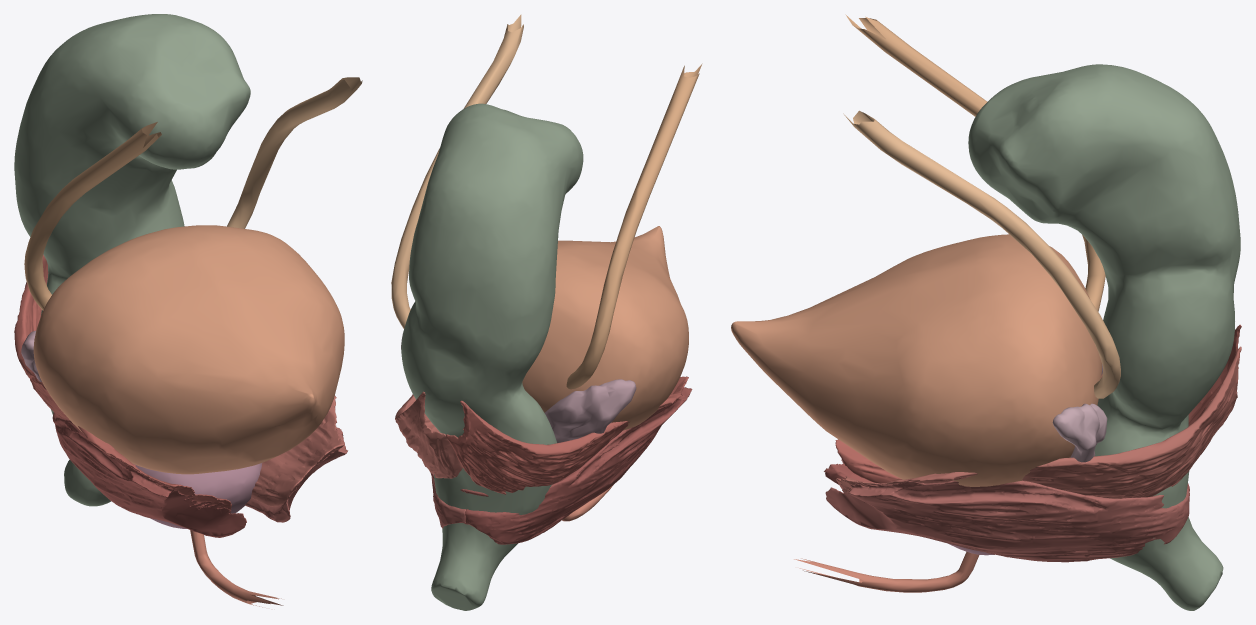
Rendered from bladder.glb.
3 renders of one model, left to right at view 1: azimuth 30°, elevation 25°; view 2: azimuth 150°, elevation 25°; view 3: azimuth 270°, elevation 25°, orthographic. The views are drawn at different scales.
Parts seen in each view (by area): view 1: urinary-bladder, rectum, right-puborectalis, right-ureter, left-ureter, left-pubococcygeus, right-pubococcygeus, prostate, urethra, left-puborectalis; view 2: rectum, urinary-bladder, right-pubococcygeus, right-puborectalis, right-ureter, left-ureter, right-seminal-vesicle, left-pubococcygeus, left-puborectalis; view 3: rectum, urinary-bladder, left-puborectalis, left-pubococcygeus, left-ureter, right-ureter, urethra, left-seminal-vesicle, right-pubococcygeus.
Part boxes in pixels (bbox=[...]): urinary-bladder: bbox=[33, 225, 344, 474]; rectum: bbox=[14, 14, 250, 506]; right-puborectalis: bbox=[52, 412, 246, 537]; right-ureter: bbox=[24, 122, 161, 310]; left-ureter: bbox=[227, 77, 362, 228]; left-pubococcygeus: bbox=[251, 395, 344, 506]; right-pubococcygeus: bbox=[14, 255, 231, 509]; prostate: bbox=[134, 463, 262, 528]; urethra: bbox=[190, 530, 283, 607]; left-puborectalis: bbox=[245, 407, 347, 522]; rectum: bbox=[401, 103, 583, 610]; urinary-bladder: bbox=[522, 226, 688, 430]; right-pubococcygeus: bbox=[446, 376, 688, 494]; right-puborectalis: bbox=[464, 382, 692, 544]; right-ureter: bbox=[566, 63, 702, 389]; left-ureter: bbox=[391, 14, 523, 328]; right-seminal-vesicle: bbox=[544, 379, 636, 442]; left-pubococcygeus: bbox=[395, 391, 462, 478]; left-puborectalis: bbox=[430, 473, 465, 528]; rectum: bbox=[968, 64, 1240, 610]; urinary-bladder: bbox=[731, 234, 1101, 486]; left-puborectalis: bbox=[825, 480, 1189, 562]; left-pubococcygeus: bbox=[836, 346, 1241, 498]; left-ureter: bbox=[843, 110, 1120, 398]; right-ureter: bbox=[845, 14, 1105, 311]; urethra: bbox=[794, 551, 979, 592]; left-seminal-vesicle: bbox=[1052, 403, 1107, 462]; right-pubococcygeus: bbox=[835, 324, 1241, 483].
Size of the model in its own units: 1.45 by 2.68 by 2.28.
